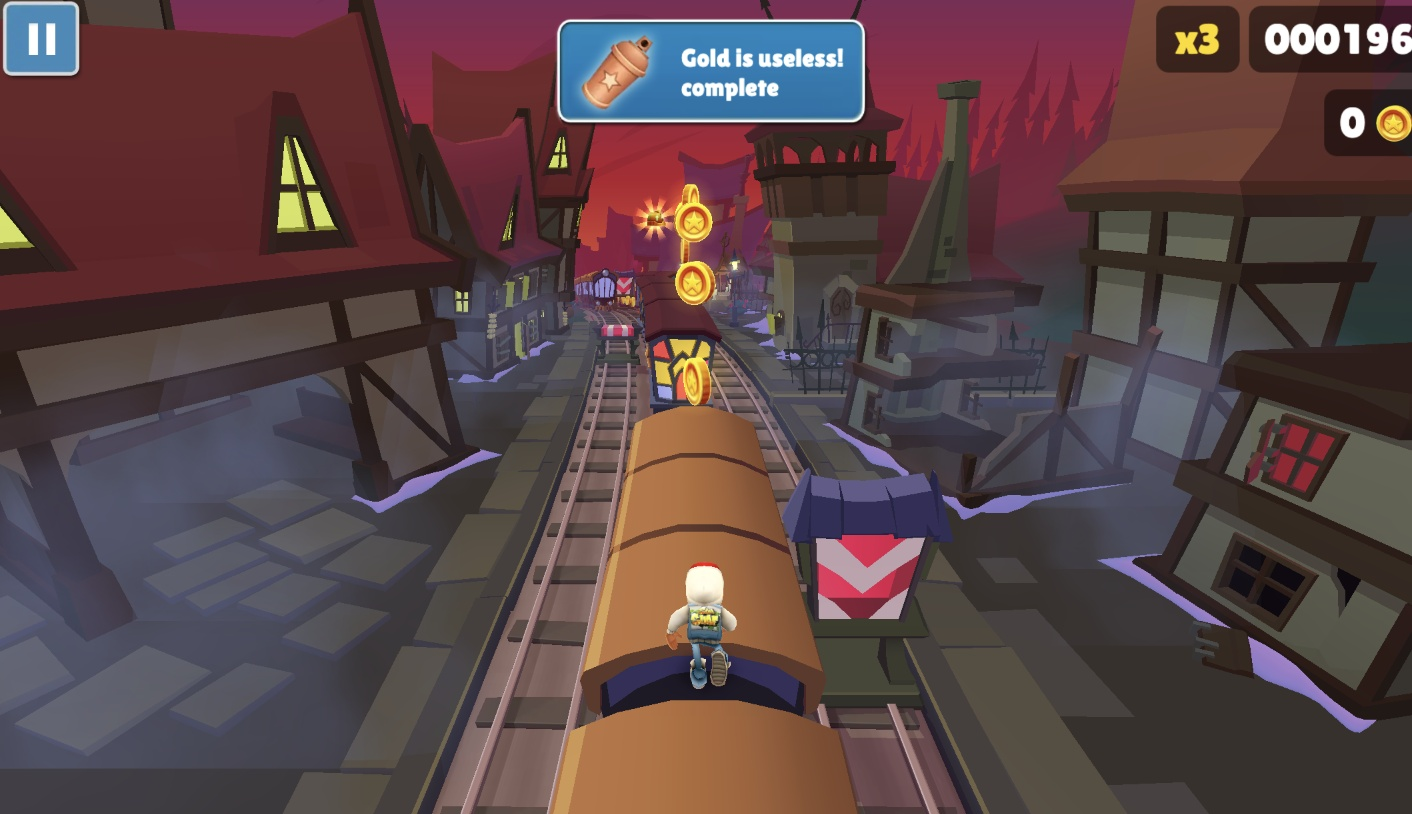ground_barrier: (593, 325, 641, 364)
overhead_barrier: (786, 487, 965, 725), (616, 272, 639, 311)
train: (547, 419, 859, 814), (640, 277, 724, 423), (574, 271, 618, 314)
